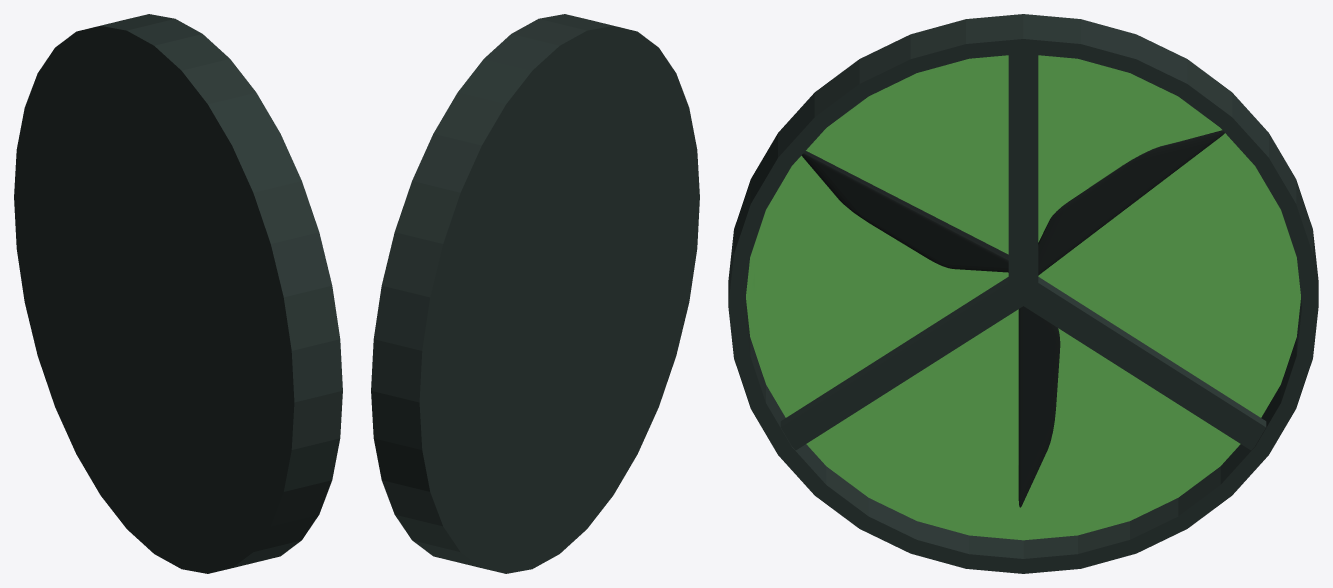
File: O2-fan.glb
3 renders of one model, left to right at view 1: azimuth 30°, elevation 25°; view 2: azimuth 150°, elevation 25°; view 3: azimuth 270°, elevation 25°, orthographic. The views are drawn at different scales.
Parts seen in each view (by area): view 1: Cube.005; view 2: Cube.005; view 3: Cube.005.
Boxes of the visible parts, bbox=[...] form: Cube.005: bbox=[14, 14, 342, 573]; Cube.005: bbox=[371, 14, 699, 573]; Cube.005: bbox=[728, 14, 1318, 573].
Bounding box in the file's own units: 0.2 × 2 × 2.
1 material, 1 textured.
